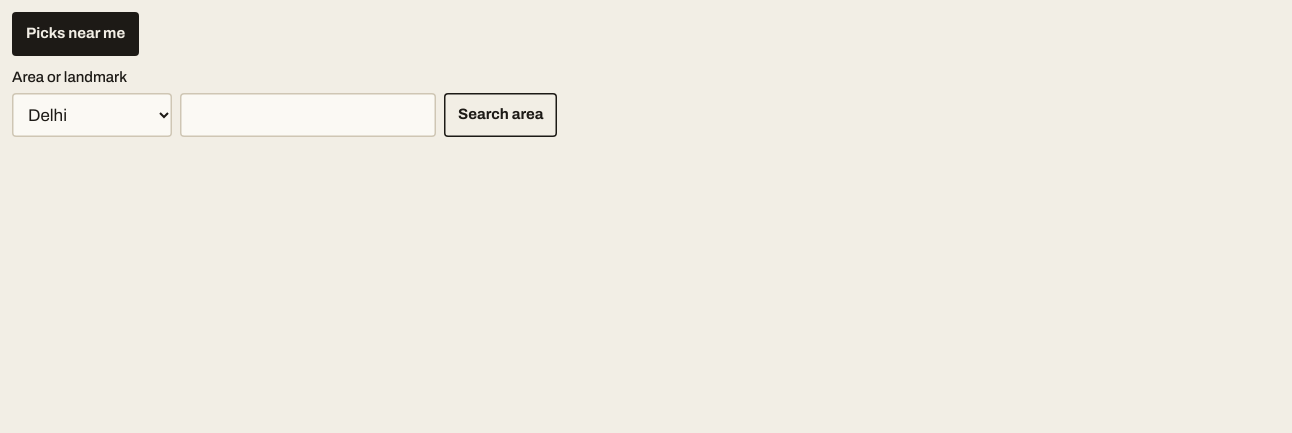
HomeNearMe › searches an area through /api/geocode with the chosen city
The width and height of the screenshot is (1292, 433).
Select "Delhi" in the dropdown named "City" at (92, 115), box left=12, top=93, right=172, bottom=137
Type "Chandni Chowk" into the search field labelled "Area or landmark".
click(308, 115); type("Chandni Chowk")  # box left=180, top=93, right=436, bottom=137
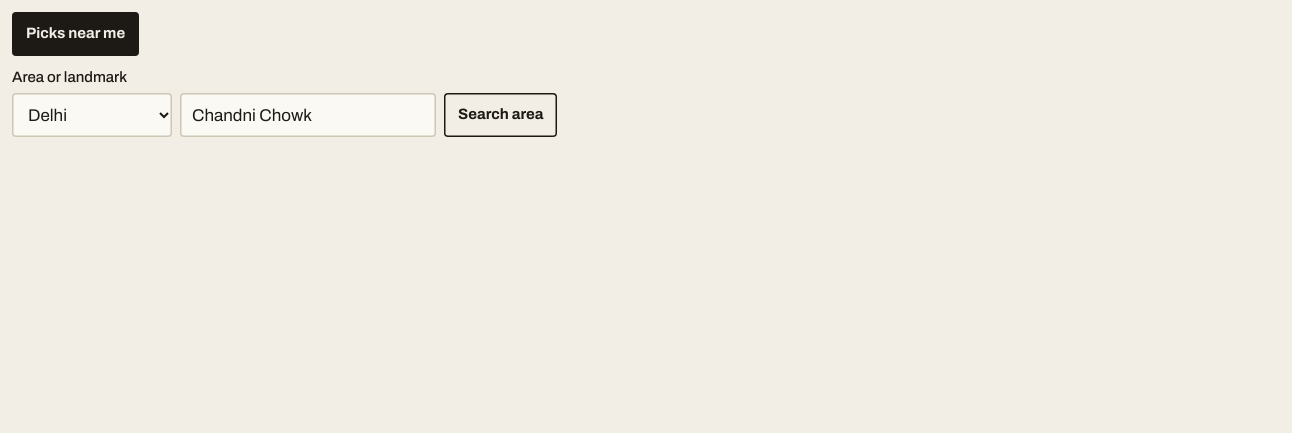
Click the button "Search area".
click(501, 115)  # box left=444, top=93, right=558, bottom=137
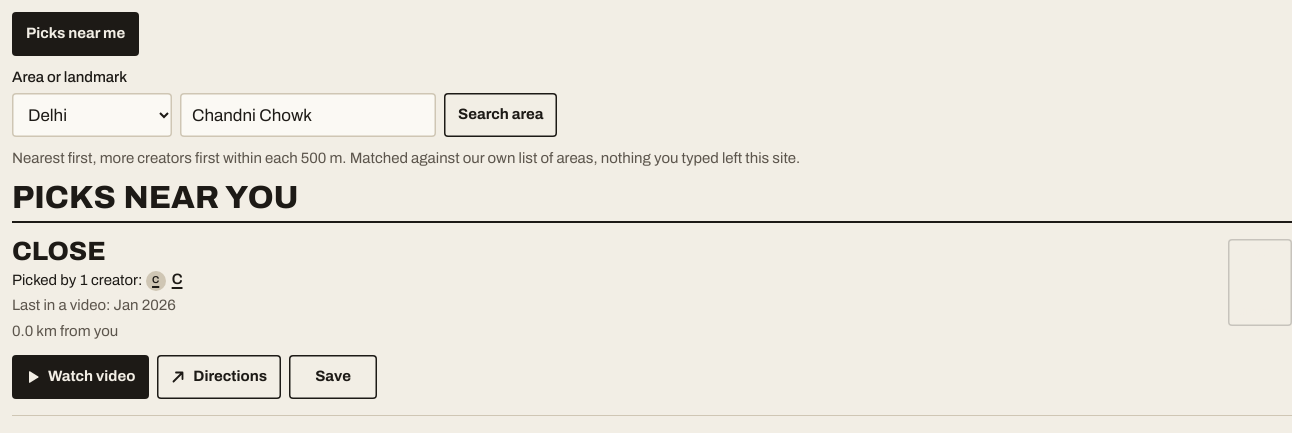
Expected: the link "close" is shown, left=12, top=237, right=106, bottom=266
Expected: the message shows "Matched against our own list of areas", left=12, top=151, right=800, bottom=167
